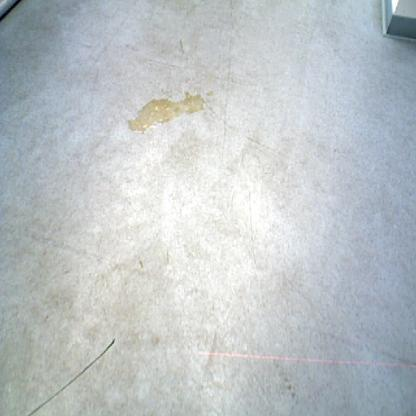liquid: (127, 90, 205, 135), (206, 90, 214, 97)
mark: (26, 334, 116, 416), (201, 95, 235, 131), (225, 1, 234, 89), (247, 189, 257, 264), (380, 349, 416, 367), (244, 134, 276, 152), (205, 331, 218, 372), (284, 376, 298, 400), (184, 1, 202, 15), (124, 41, 138, 53), (164, 248, 171, 266), (179, 36, 185, 56), (138, 258, 145, 270), (42, 314, 50, 324), (61, 268, 71, 276), (332, 146, 338, 154), (160, 2, 166, 10)
